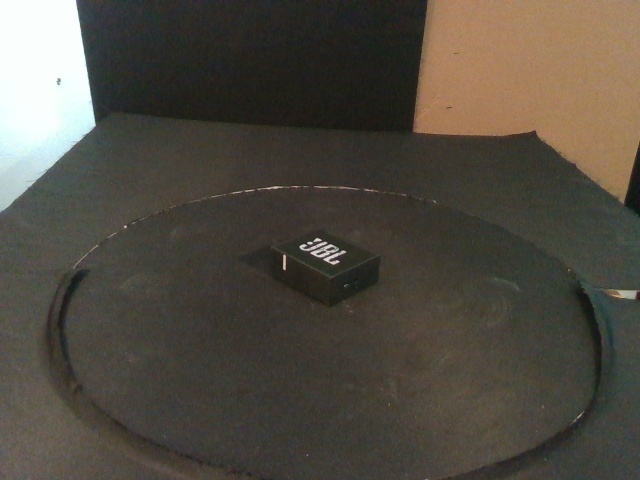speaker: (268, 227, 382, 306)
